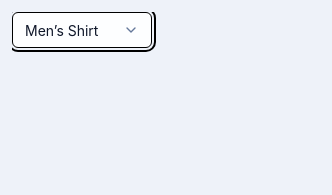
CustomSelect keyboard interaction › opens with ArrowDown, navigates options, and selects with Enter
Press ArrowDown in the button with aria-label "Garment family", box x1=12 y1=12 x2=152 y2=48
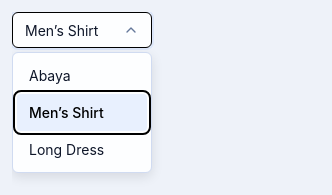
Press ArrowDown in the option "Men’s Shirt", box x1=17 y1=94 x2=147 y2=131
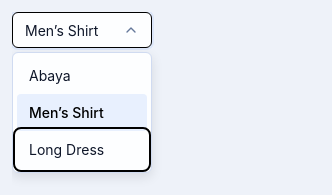
// A native button's Enter key activation is dispatched as click by the browser.
Click the option "Long Dress".
click(82, 150)  # box x1=17 y1=131 x2=147 y2=168
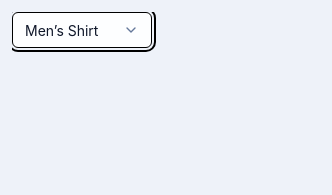
Expected: the list is gone
